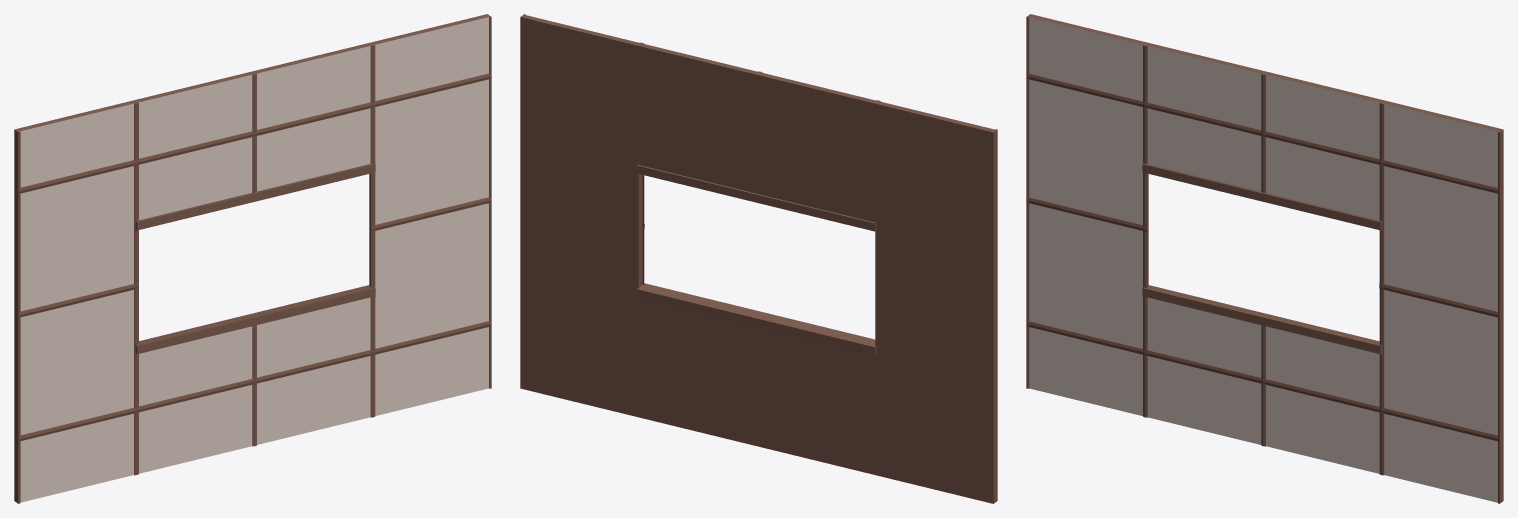
File: windowTest.fbx
3 views of the same model, side by side, from view 1: azimuth 30°, elevation 25°; view 2: azimuth 150°, elevation 25°; view 3: azimuth 330°, elevation 25° (orthographic).
Visible parts, largest first — view 1: Cube.027; view 2: Cube.027; view 3: Cube.027.
Boxes of the visible parts, left/top/right/bottom form: Cube.027: left=14, top=14, right=491, bottom=503; Cube.027: left=520, top=14, right=997, bottom=503; Cube.027: left=1026, top=14, right=1503, bottom=503.
Size of the model in its own units: 800 by 600 by 18.76.
